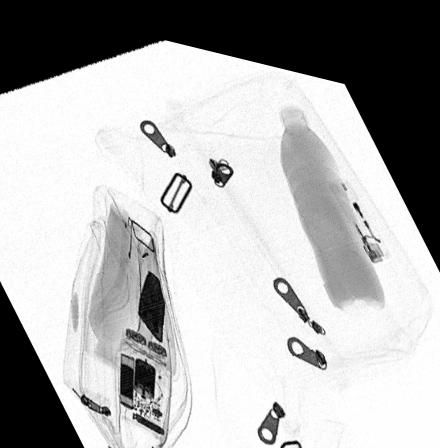Lighter: (329, 160, 390, 245)
